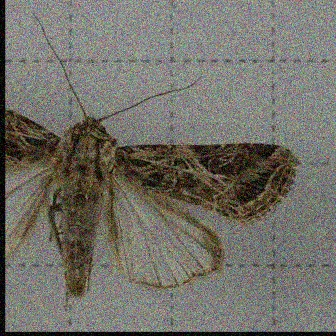Spodoptera litura: (5, 12, 301, 310)
